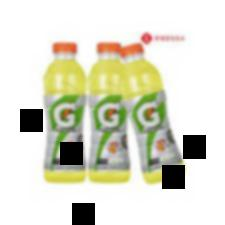gatorade_lemon: (119, 43, 186, 184), (43, 42, 87, 184), (88, 41, 131, 184)
